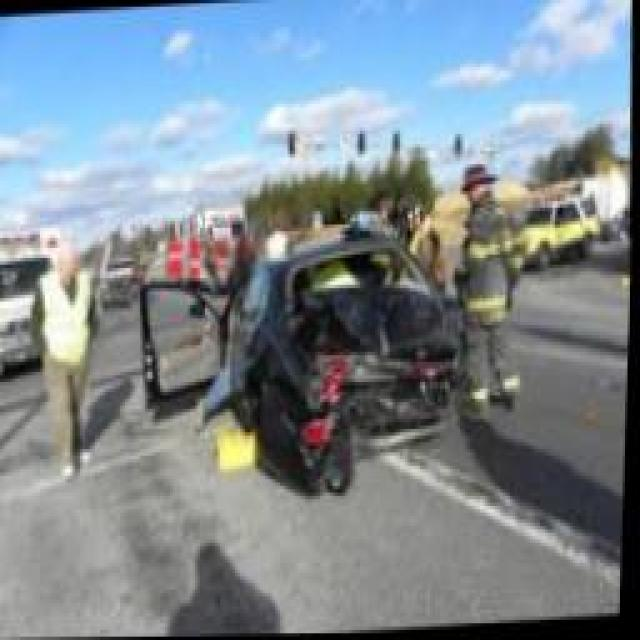Bumper: (288, 348, 455, 445)
Dickey: (292, 302, 454, 368)
